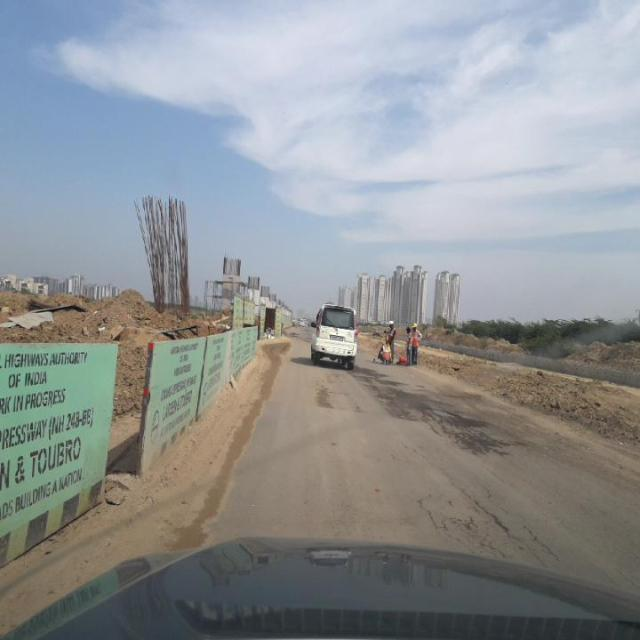D20: (316, 373, 502, 452), (406, 474, 560, 558)
D40: (421, 399, 474, 438)
